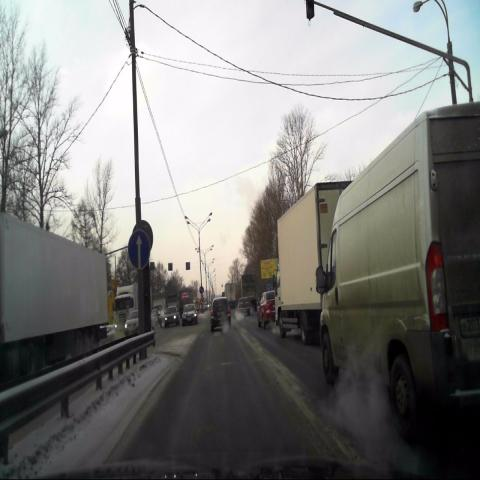4_1_1: (128, 230, 150, 269)
